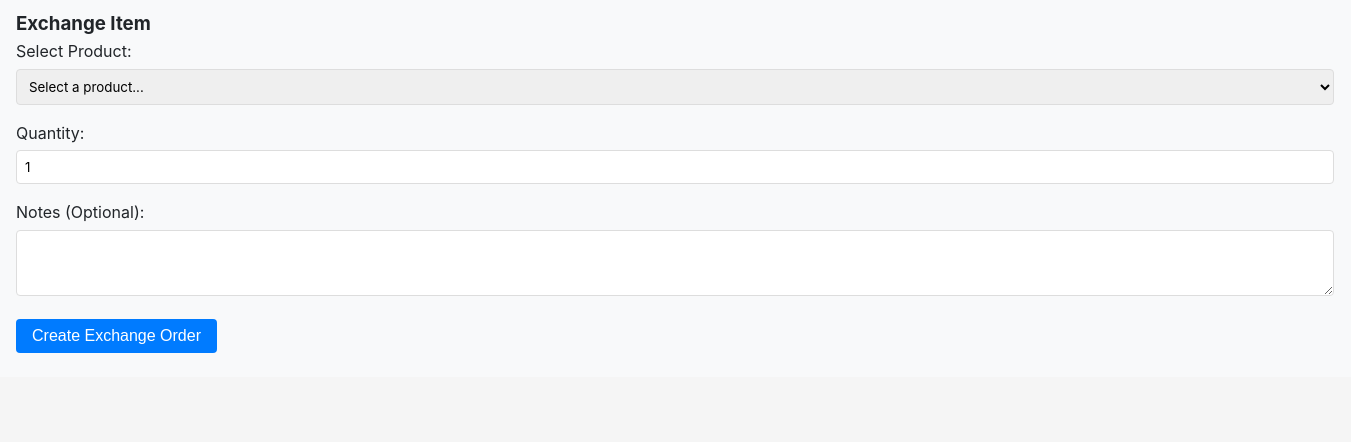
Scenario: ExchangeForm › should display error when exchange creation fails
Select "Product 1 - $29.99" in the dropdown labelled "Select Product:". click: [675, 86]
box: [16,68,1334,104]
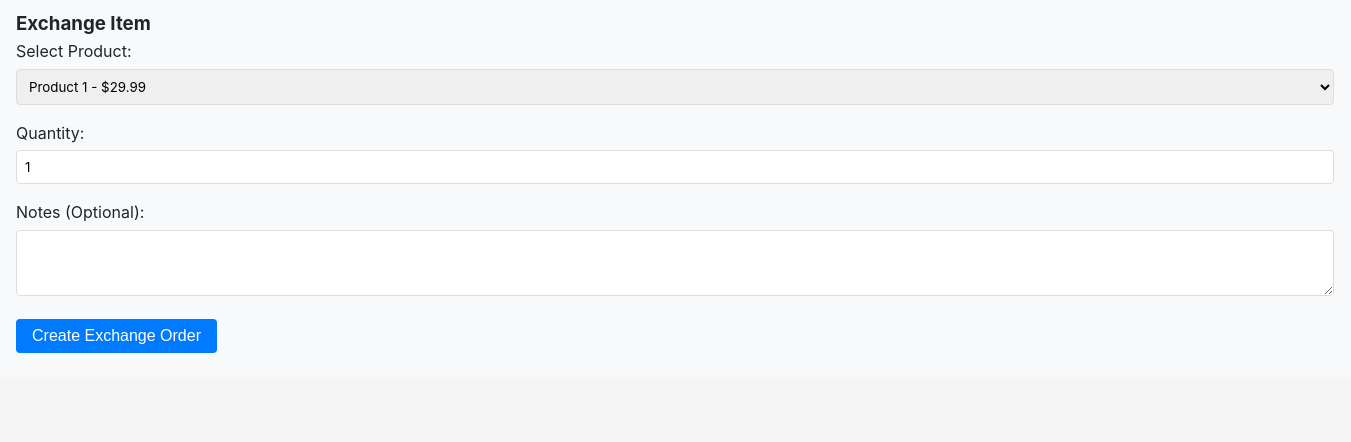
Click the button "Create Exchange Order". click: [116, 336]
box: [16,319,217,353]
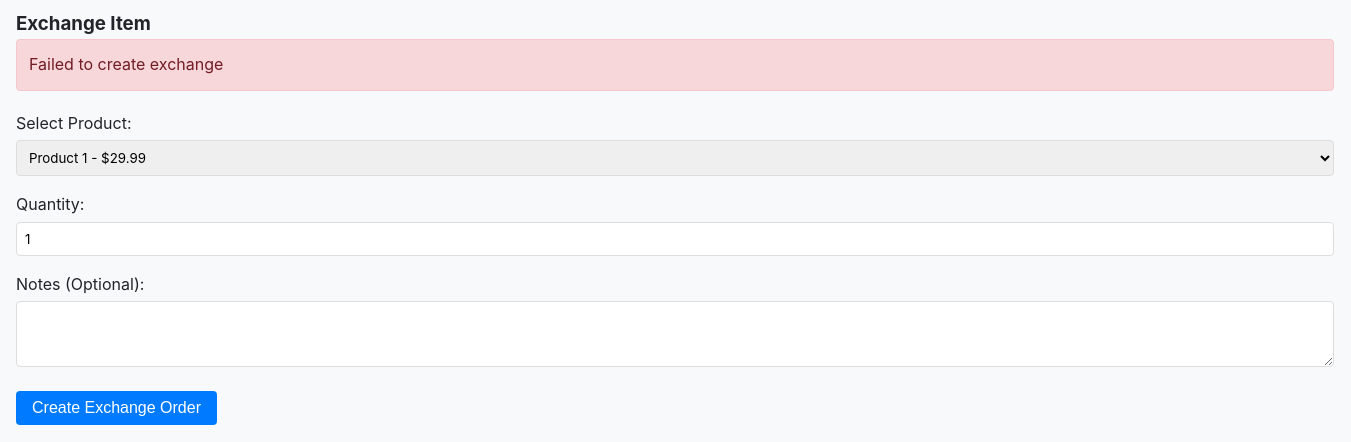
Expected: the text "Failed to create exchange" is shown, [16,39,1334,90]
